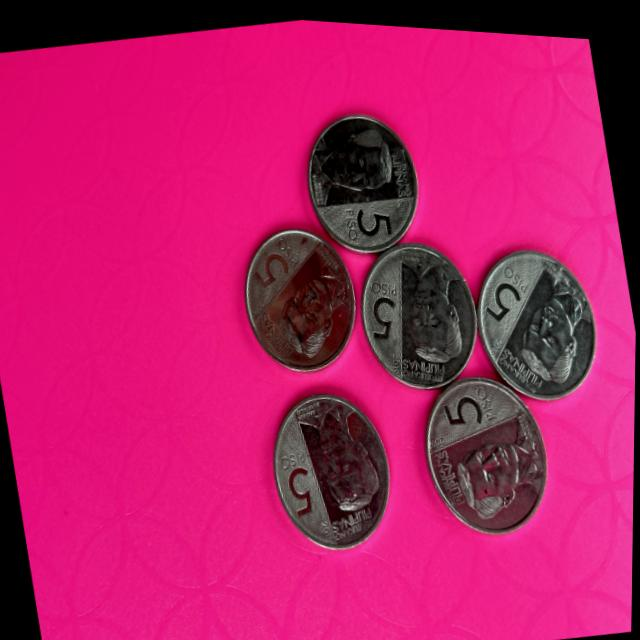5_New_Front: (476, 247, 542, 328), (245, 225, 316, 298), (434, 374, 503, 437), (275, 433, 323, 518), (360, 268, 408, 347), (339, 191, 402, 248)
